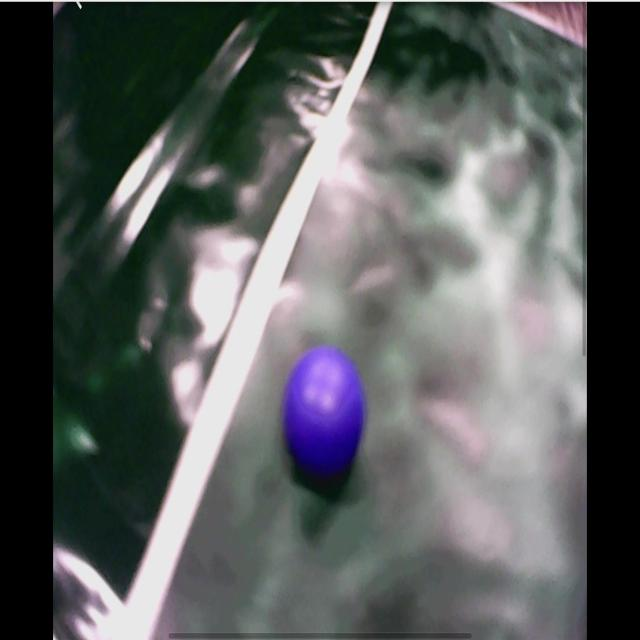ball: (286, 348, 367, 478)
